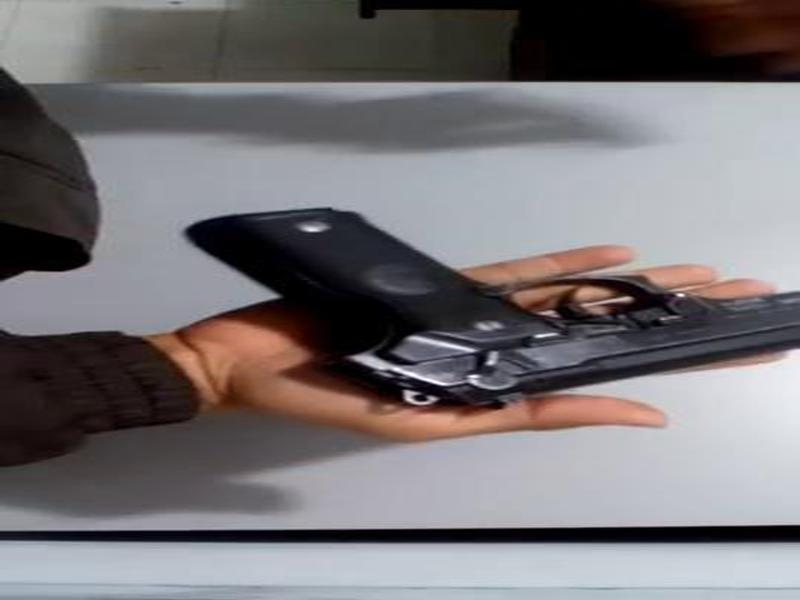Pistola: (182, 151, 800, 408)
